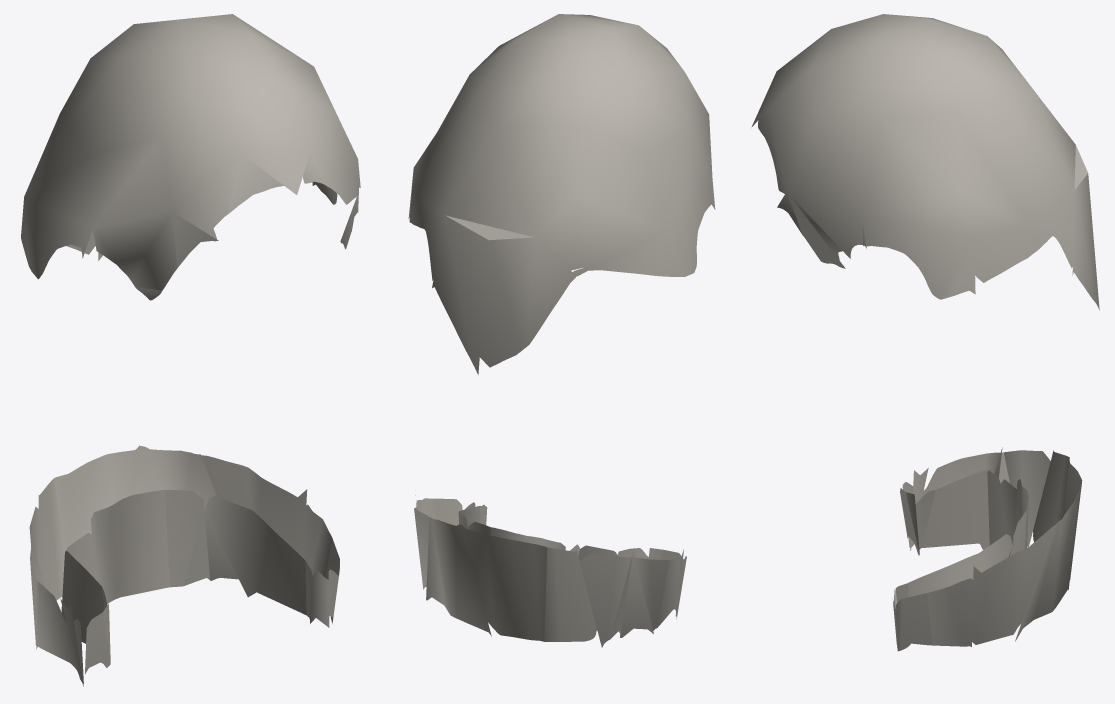
The model's file is toc_dai_edits.far.glb.
3 views of the same model, side by side, from view 1: azimuth 30°, elevation 25°; view 2: azimuth 150°, elevation 25°; view 3: azimuth 270°, elevation 25° (orthographic). The views are drawn at different scales.
Visible parts, largest first — view 1: toc_dai_edits; view 2: toc_dai_edits; view 3: toc_dai_edits.
Part boxes in pixels (<box>): toc_dai_edits: <box>21,14,360,686</box>; toc_dai_edits: <box>408,14,715,647</box>; toc_dai_edits: <box>751,14,1099,651</box>.
Size of the model in its own units: 0.2222 by 0.4517 by 0.2301.
1 material, 1 textured.
